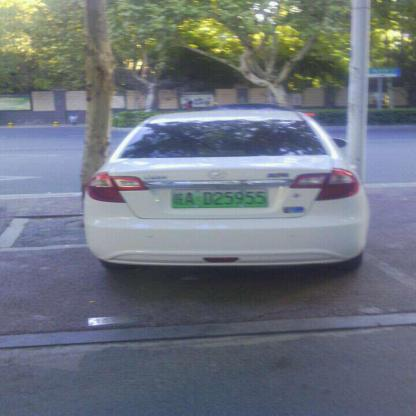lp: (171, 188, 266, 206)
